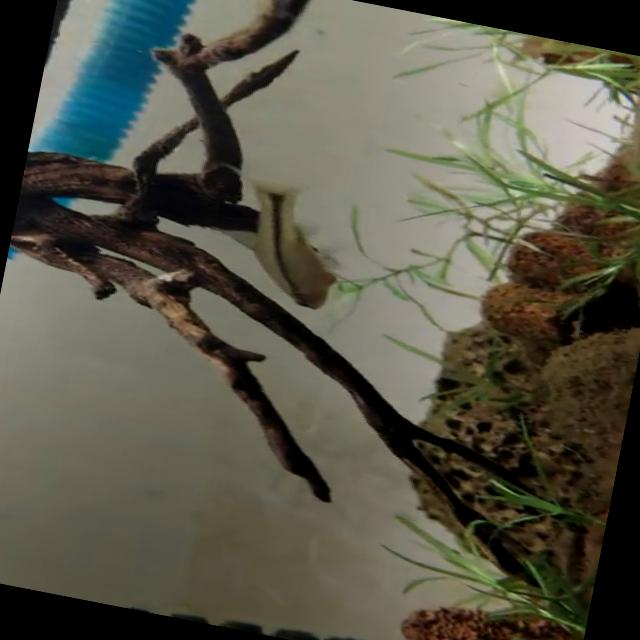Cakil Baligi: (196, 164, 362, 316)
